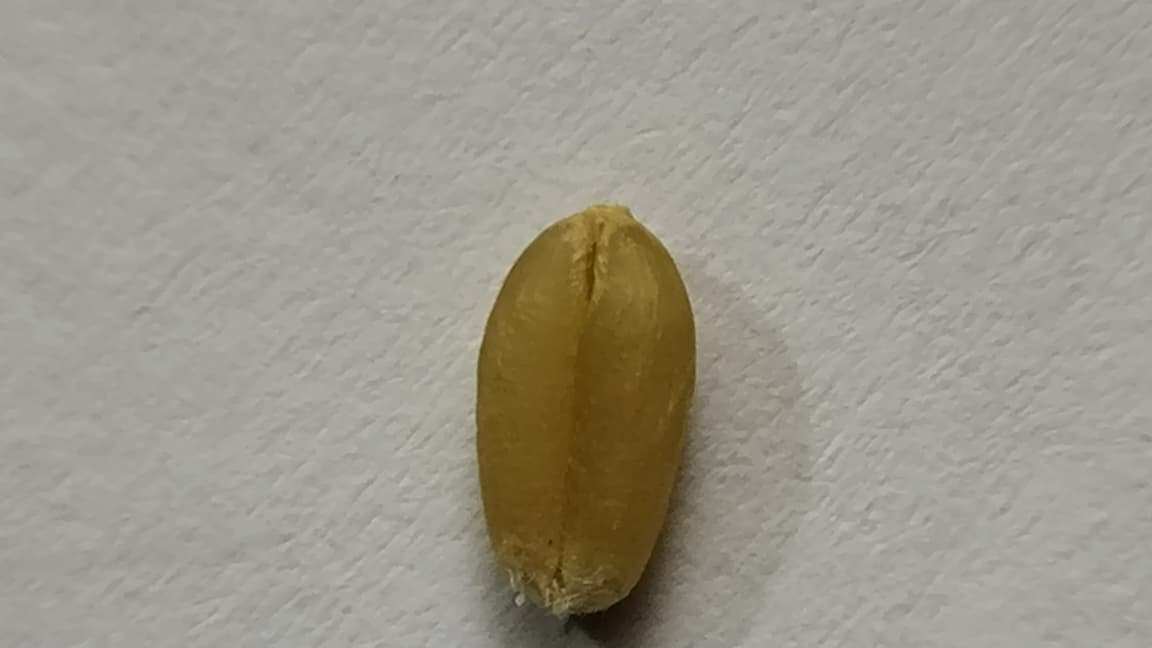healthy: (477, 204, 694, 613)
